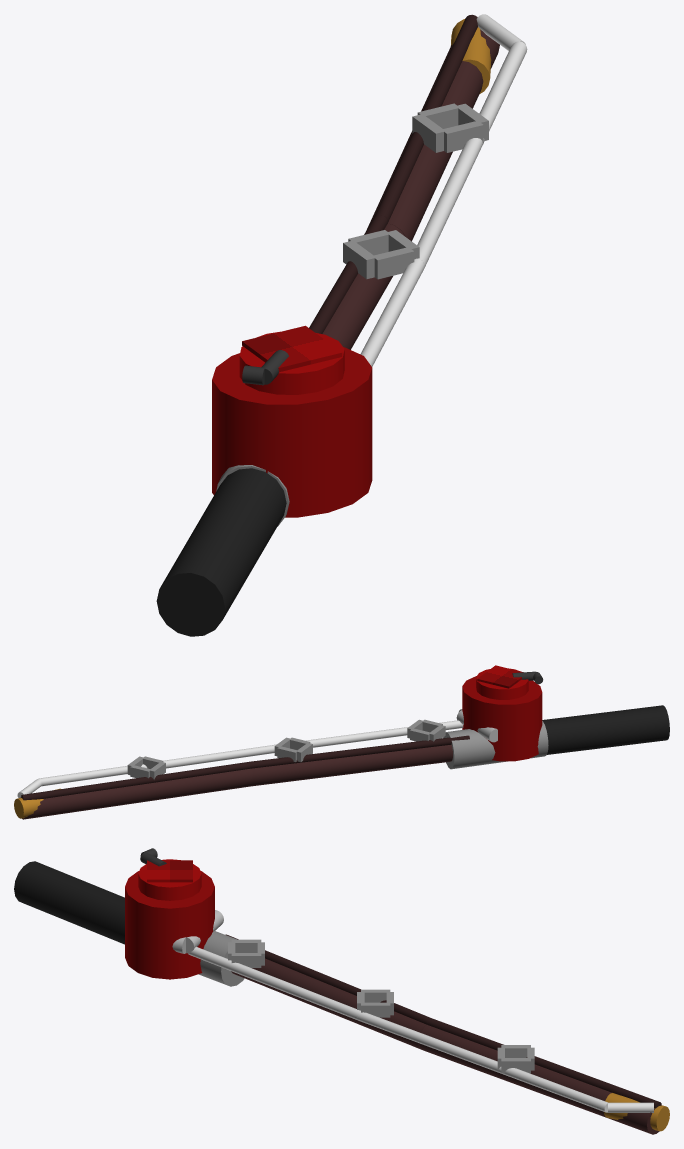
Rendered from CMU3DFishingRodNaturalFinalCloud.glb.
3 renders of one model, top to bottom at view 1: azimuth 30°, elevation 25°; view 2: azimuth 150°, elevation 25°; view 3: azimuth 270°, elevation 25°, orthographic. The views are drawn at different scales.
Parts seen in each view (by area): view 1: round red reel case, black rubber handle segment 1, brown composite rod blank segment 2, attached pale line beside shaft segment 2, dark back of rod blank segment 2, raised red reel spool, brown composite rod blank segment 1, original red reel color detail, attached pale line beside shaft segment 1, dark back of rod blank segment 1, gold rod tip wrap segment 1, open line guide 2 side 2; view 2: black rubber handle segment 1, round red reel case, brown composite rod blank segment 2, brown composite rod blank segment 1, attached pale line beside shaft segment 2, gray handle collar segment 1, dark back of rod blank segment 2, dark back of rod blank segment 1, attached pale line beside shaft segment 1, raised red reel spool, original red reel color detail, gold rod tip wrap segment 1 (+1 smaller); view 3: round red reel case, black rubber handle segment 1, brown composite rod blank segment 2, attached pale line beside shaft segment 2, brown composite rod blank segment 1, attached pale line beside shaft segment 1, dark back of rod blank segment 2, raised red reel spool, dark back of rod blank segment 1, gray handle collar segment 1, original red reel color detail, gold rod tip wrap segment 1 (+1 smaller).
Part boxes in pixels (box(x1,y1,x2,y2)): round red reel case: box(212, 347, 372, 517); black rubber handle segment 1: box(156, 468, 286, 636); brown composite rod blank segment 2: box(367, 29, 499, 241); attached pale line beside shaft segment 2: box(417, 41, 527, 268); dark back of rod blank segment 2: box(374, 14, 477, 222); raised red reel spool: box(239, 332, 344, 394); brown composite rod blank segment 1: box(322, 223, 405, 349); original red reel color detail: box(242, 325, 342, 372); attached pale line beside shaft segment 1: box(360, 258, 424, 366); dark back of rod blank segment 1: box(309, 215, 387, 333); gold rod tip wrap segment 1: box(450, 19, 491, 93); open line guide 2 side 2: box(372, 247, 414, 279); black rubber handle segment 1: box(542, 705, 669, 754); round red reel case: box(462, 676, 542, 761); brown composite rod blank segment 2: box(22, 768, 252, 819); brown composite rod blank segment 1: box(251, 744, 452, 786); attached pale line beside shaft segment 2: box(39, 744, 276, 786); gray handle collar segment 1: box(443, 721, 548, 769); dark back of rod blank segment 2: box(21, 761, 251, 800); dark back of rod blank segment 1: box(250, 735, 469, 768); attached pale line beside shaft segment 1: box(306, 720, 463, 747); raised red reel spool: box(476, 668, 528, 699); original red reel color detail: box(477, 665, 523, 688); gold rod tip wrap segment 1: box(14, 788, 60, 818); round red reel case: box(125, 871, 214, 979); black rubber handle segment 1: box(14, 861, 124, 944); brown composite rod blank segment 2: box(419, 1025, 659, 1134); attached pale line beside shaft segment 2: box(358, 1012, 608, 1112); brown composite rod blank segment 1: box(231, 958, 426, 1049); attached pale line beside shaft segment 1: box(188, 946, 360, 1020); dark back of rod blank segment 2: box(427, 1018, 661, 1108); raised red reel spool: box(138, 859, 201, 900); dark back of rod blank segment 1: box(225, 934, 431, 1024); gray handle collar segment 1: box(198, 931, 244, 986); original red reel color detail: box(147, 860, 192, 882); gold rod tip wrap segment 1: box(604, 1093, 669, 1131).
Size of the model in its own units: 0.8084 by 0.1525 by 0.8893.
Materials: 12 (1 with a texture image).
